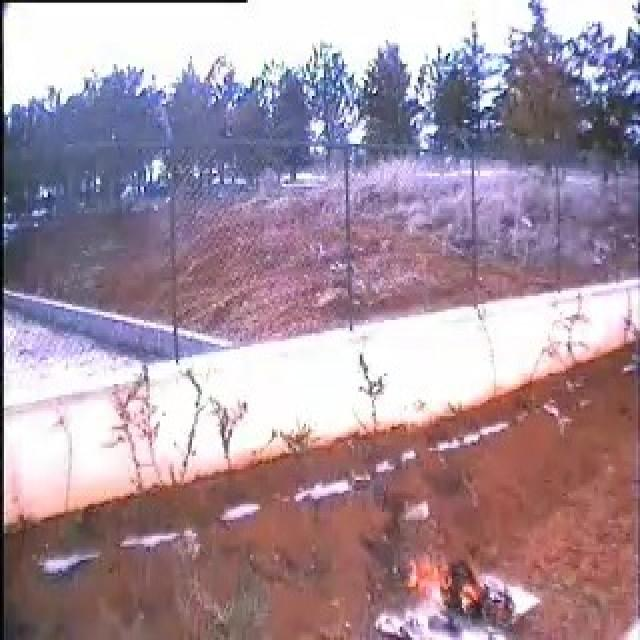fire: (407, 558, 452, 598)
